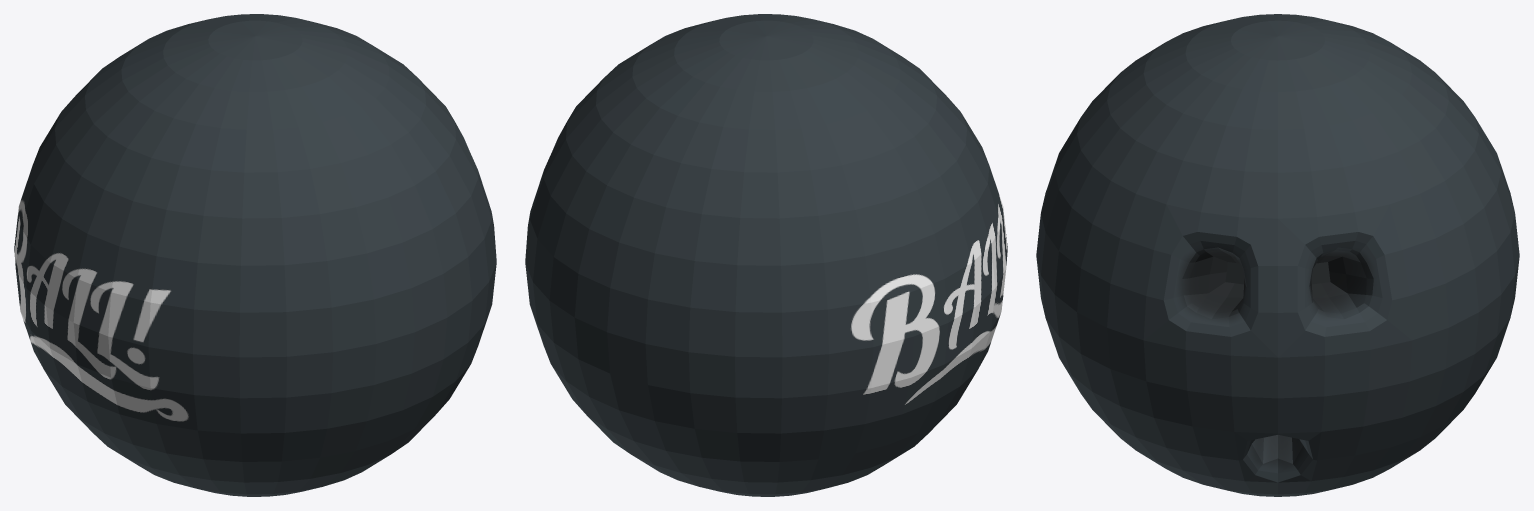
Rendered from ball.obj.
3 renders of one model, left to right at view 1: azimuth 30°, elevation 25°; view 2: azimuth 150°, elevation 25°; view 3: azimuth 270°, elevation 25°, orthographic.
Visible parts, largest first — view 1: Sphere; view 2: Sphere; view 3: Sphere.
Boxes of the visible parts, left/top/right/bottom form: Sphere: left=14, top=14, right=496, bottom=496; Sphere: left=525, top=14, right=1007, bottom=496; Sphere: left=1036, top=14, right=1519, bottom=496.
Bounding box in the file's own units: 2 × 2 × 2.
